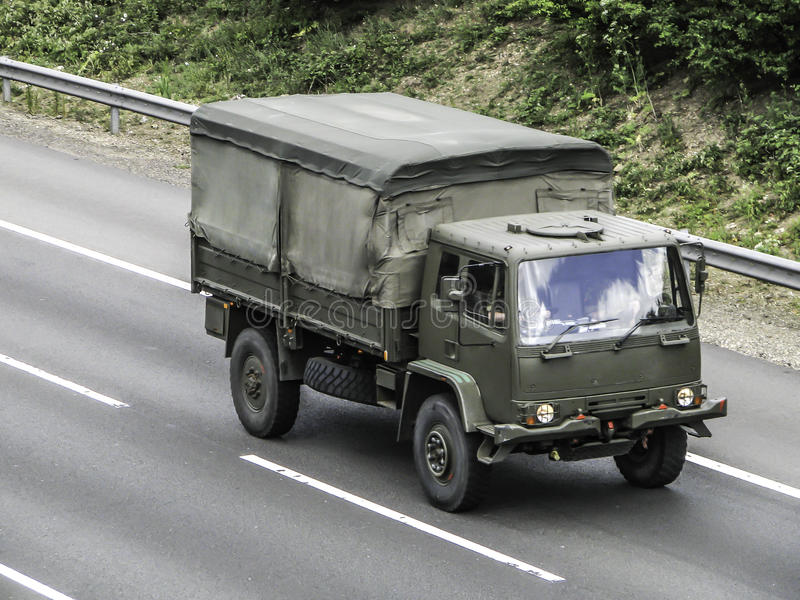camion: (195, 97, 703, 493)
